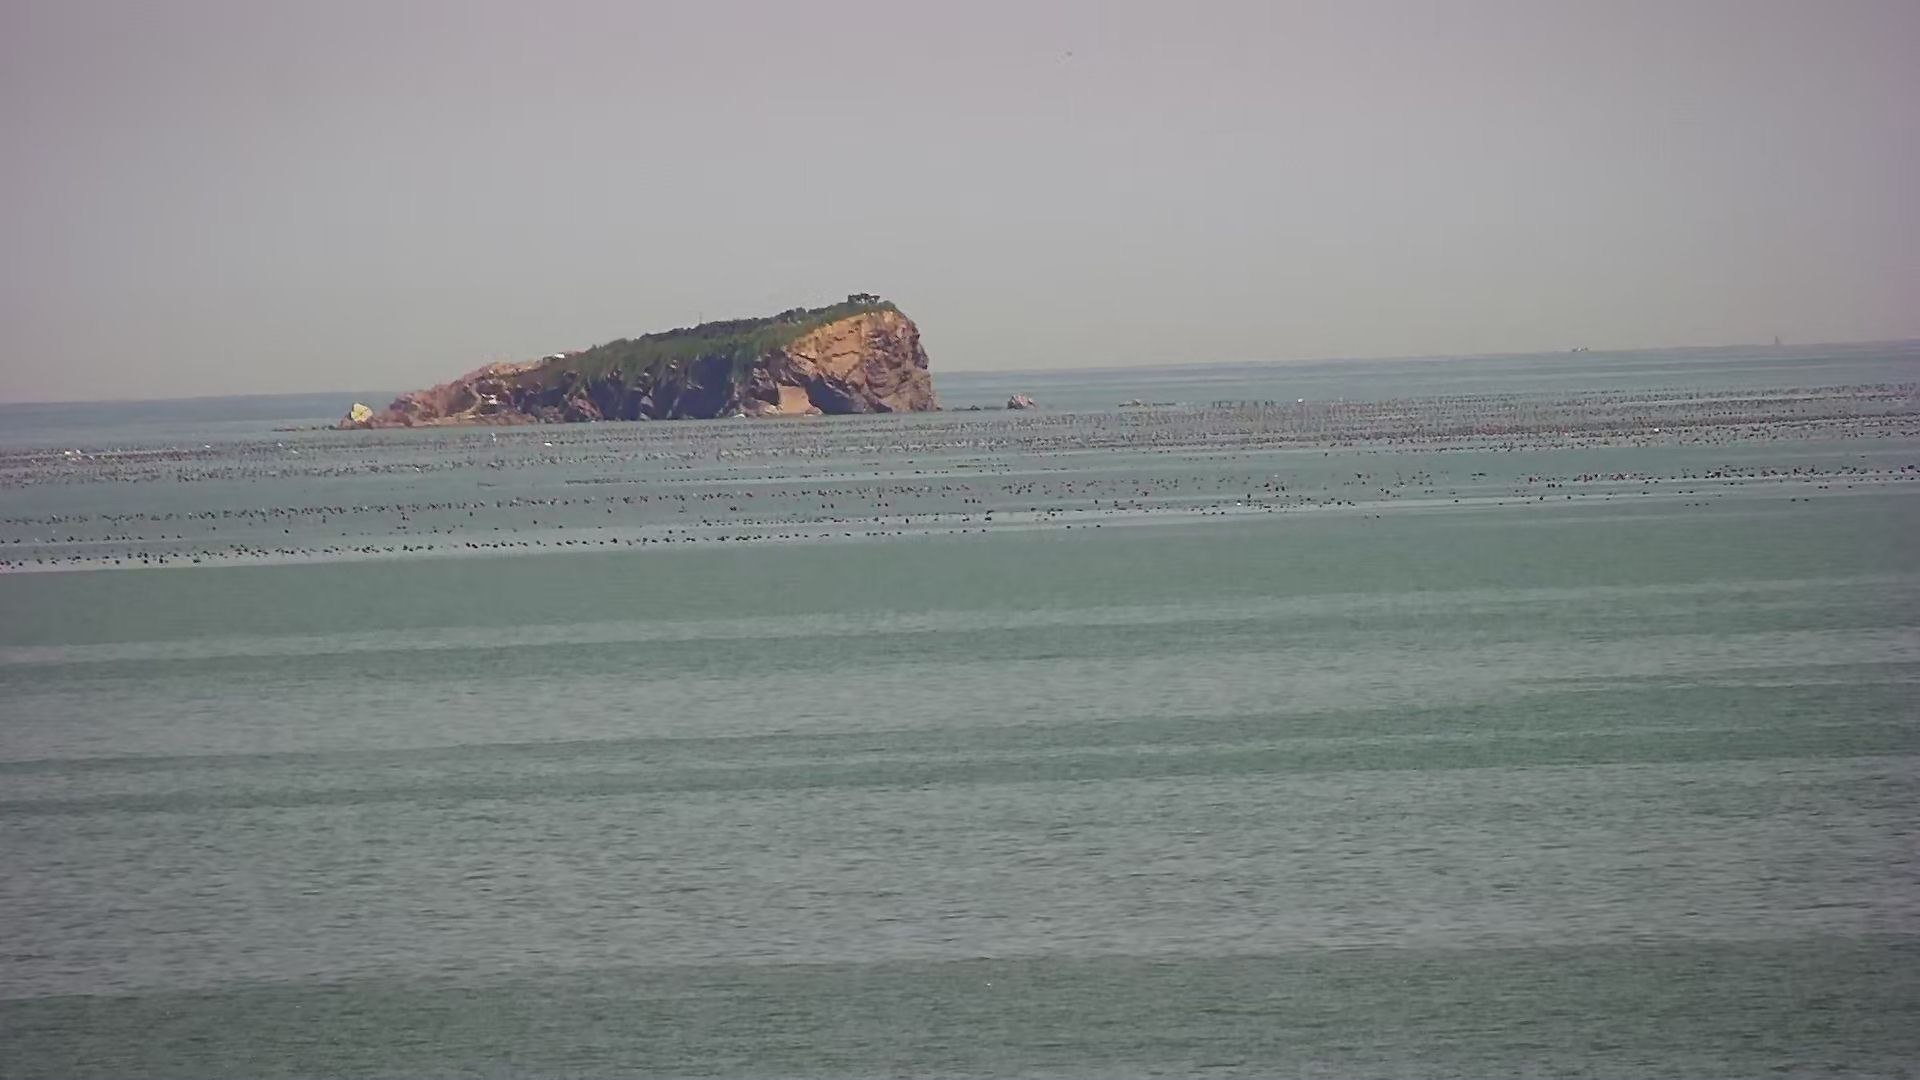rock: (266, 291, 1040, 433)
